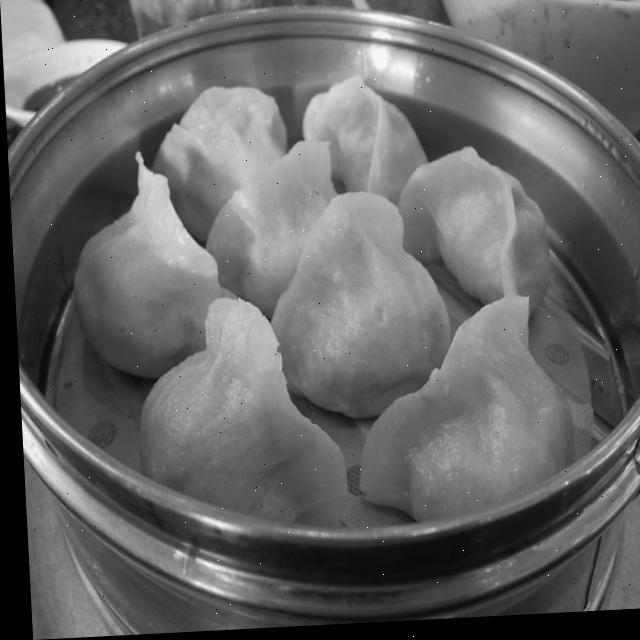带馅早点: (39, 36, 593, 573)
